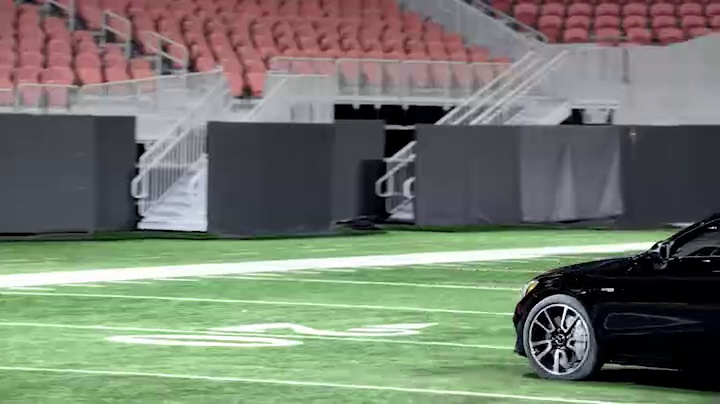amg: (516, 206, 720, 398)
